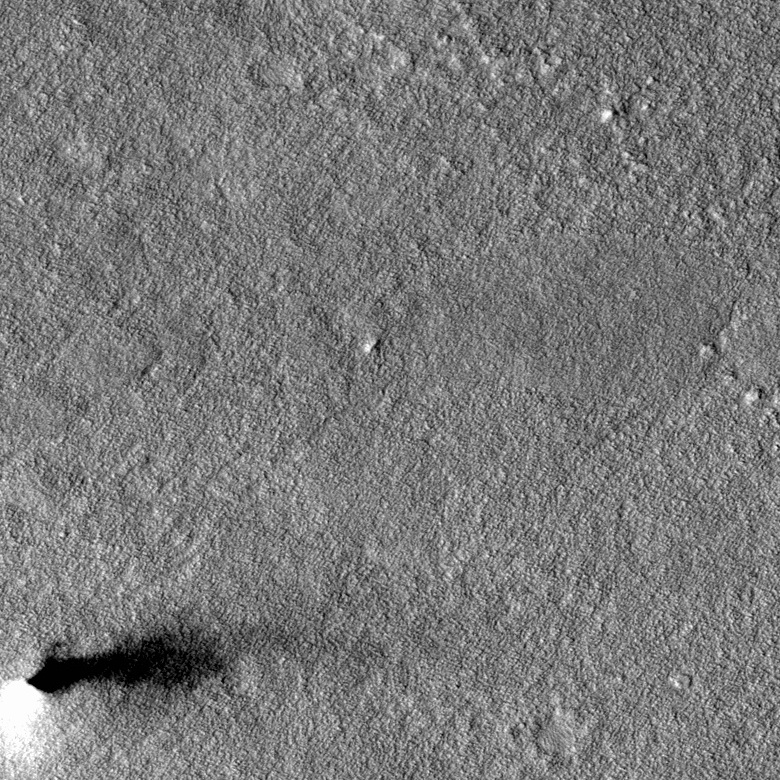dust_devil: (1, 626, 237, 753)
